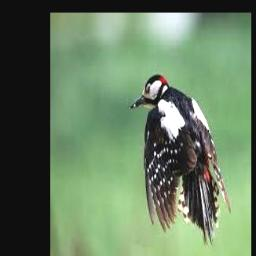Woodpecker: (130, 74, 230, 247)
